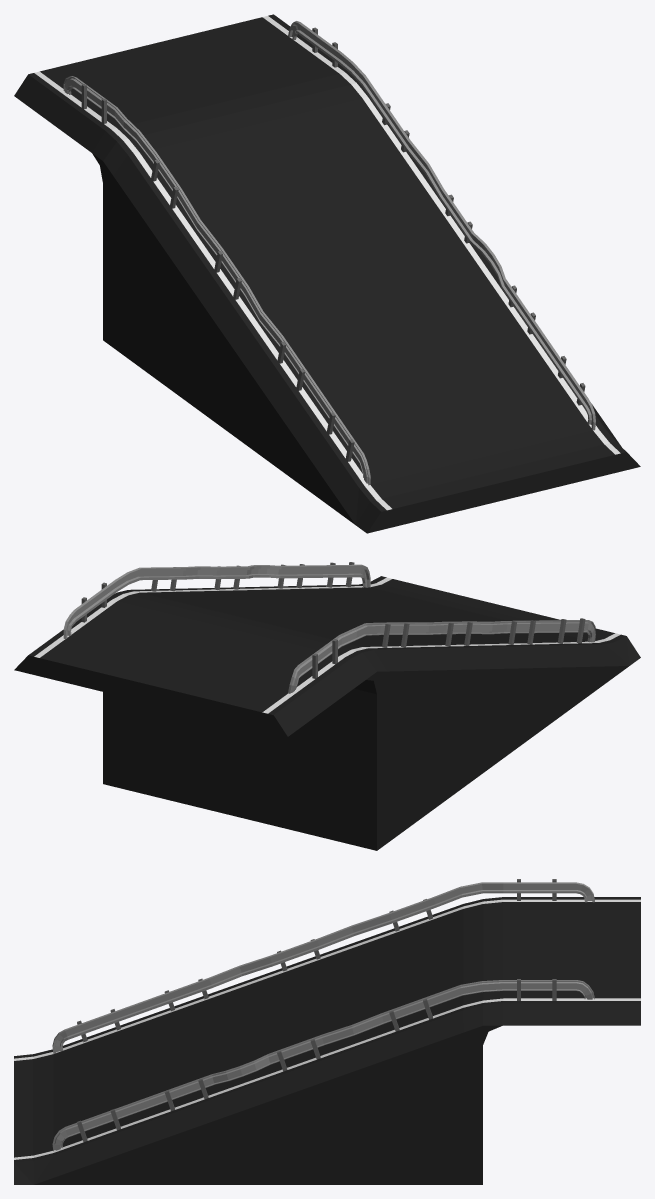
Rendered from AsphaltBridge.fbx.
The picture shows the model from 3 angles, top to bottom: view 1: azimuth 30°, elevation 25°; view 2: azimuth 150°, elevation 25°; view 3: azimuth 270°, elevation 25°; orthographic projection. The views are drawn at different scales.
Visible parts, largest first — view 1: bridge.002, bridgeBarriers.002; view 2: bridge.002, bridgeBarriers.002; view 3: bridge.002, bridgeBarriers.002.
Boxes of the visible parts, bbox=[...] form: bridge.002: bbox=[14, 14, 640, 533]; bridgeBarriers.002: bbox=[63, 21, 595, 485]; bridge.002: bbox=[14, 576, 640, 850]; bridgeBarriers.002: bbox=[63, 562, 595, 693]; bridge.002: bbox=[14, 897, 640, 1184]; bridgeBarriers.002: bbox=[52, 879, 594, 1151].
Bounding box in the file's own units: 1120 × 861 × 2500.
1 material, 1 textured.
